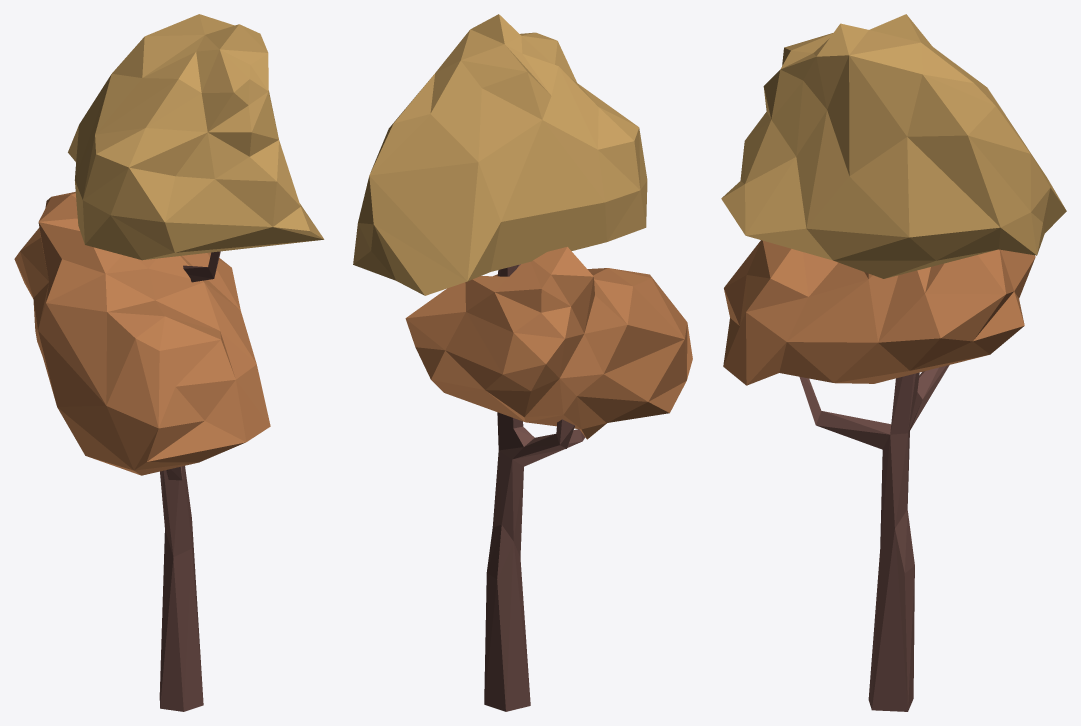
Rendered from CommonTree_Autumn_3.lod2.glb.
3 views of the same model, side by side, from view 1: azimuth 30°, elevation 25°; view 2: azimuth 150°, elevation 25°; view 3: azimuth 270°, elevation 25° (orthographic). The views are drawn at different scales.
Visible parts, largest first — view 1: CommonTree_Autumn_3; view 2: CommonTree_Autumn_3; view 3: CommonTree_Autumn_3.
Boxes of the visible parts, x1,y1,x2,y2 form: CommonTree_Autumn_3: (14, 14, 324, 711); CommonTree_Autumn_3: (353, 14, 692, 711); CommonTree_Autumn_3: (721, 14, 1066, 711).
Bounding box in the file's own units: 1.27 × 3.45 × 1.55.
